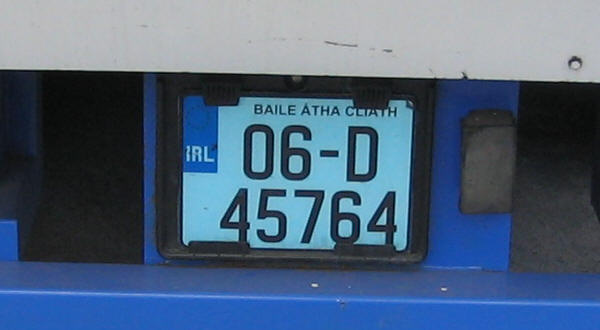license_plate: (176, 89, 413, 253)
